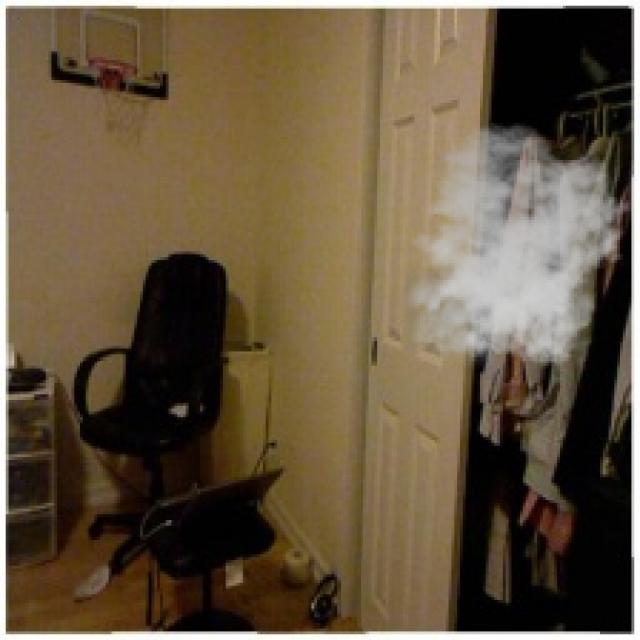smoke: (394, 123, 632, 374)
